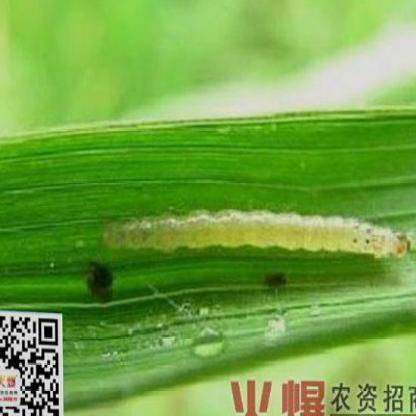leaf-folder: (100, 196, 416, 282)
